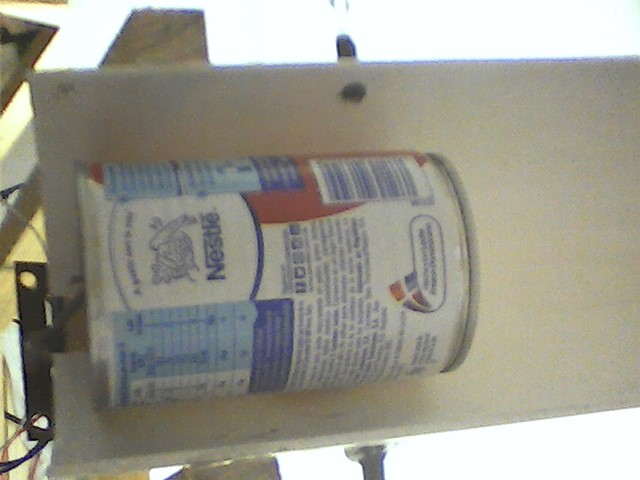lata: (70, 148, 491, 416)
